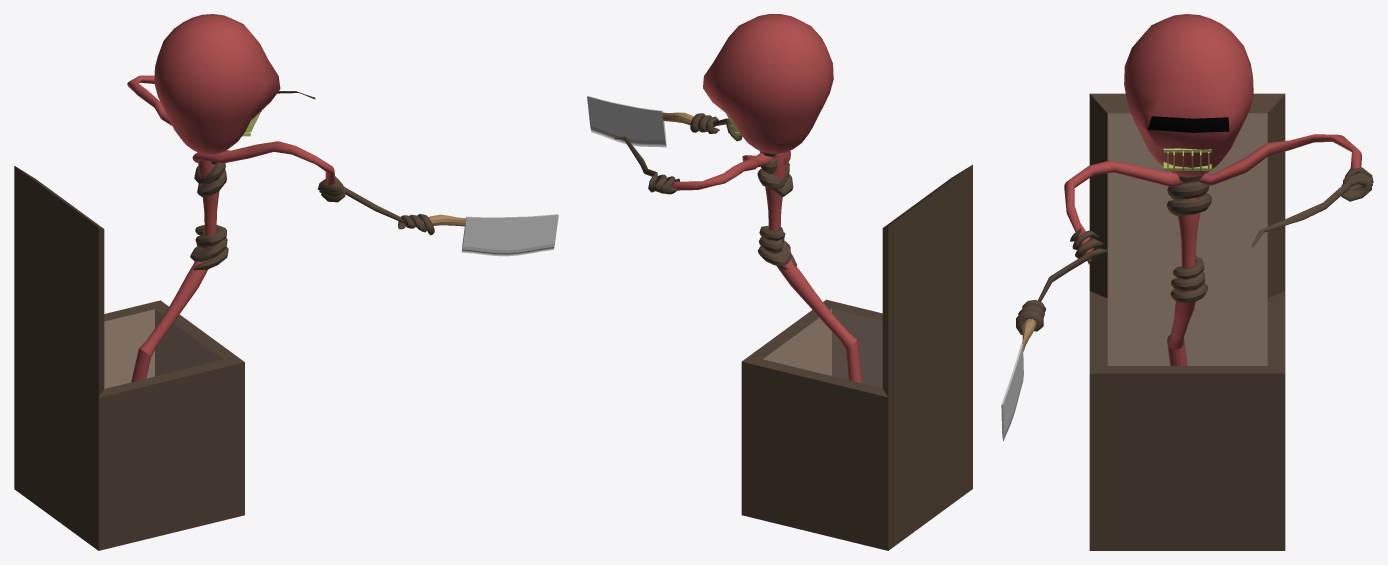
File: MonsterLow.fbx
3 renders of one model, left to right at view 1: azimuth 30°, elevation 25°; view 2: azimuth 150°, elevation 25°; view 3: azimuth 270°, elevation 25°, orthographic. The views are drawn at different scales.
Parts seen in each view (by area): view 1: Box, Head, Axe, pCylinder5, pCylinder2, pHelix4, pHelix1, pCylinder1, pHelix5, pCylinder3; view 2: Box, Head, Axe, pCylinder5, pHelix4, pCylinder3, pHelix5, pCylinder1, pHelix2, pHelix3; view 3: Box, Head, pCylinder2, pCylinder3, pHelix2, pHelix5, Axe, pHelix4, pHelix1, pCylinder5, pCylinder1, Mouth (+1 smaller).
Boxes of the visible parts, x1,y1,x2,y2 form: Box: [14, 166, 244, 550]; Head: [154, 14, 280, 154]; Axe: [422, 214, 558, 256]; pCylinder5: [131, 258, 211, 382]; pCylinder2: [192, 141, 335, 185]; pHelix4: [190, 225, 228, 270]; pHelix1: [317, 176, 414, 224]; pCylinder1: [198, 160, 219, 248]; pHelix5: [194, 161, 226, 197]; pCylinder3: [127, 75, 171, 125]; Box: [741, 164, 972, 550]; Head: [703, 14, 833, 154]; Axe: [587, 96, 693, 147]; pCylinder5: [776, 259, 862, 383]; pHelix4: [758, 225, 796, 269]; pCylinder3: [672, 152, 772, 190]; pHelix5: [757, 151, 793, 197]; pCylinder1: [765, 152, 786, 230]; pHelix2: [614, 136, 679, 194]; pHelix3: [690, 113, 719, 133]; Box: [1089, 93, 1285, 550]; Head: [1124, 14, 1253, 176]; pCylinder2: [1064, 160, 1186, 264]; pCylinder3: [1195, 134, 1361, 185]; pHelix2: [1251, 166, 1373, 246]; pHelix5: [1167, 174, 1211, 216]; Axe: [1001, 318, 1036, 441]; pHelix4: [1170, 256, 1207, 303]; pHelix1: [1038, 228, 1107, 301]; pCylinder5: [1167, 301, 1195, 365]; pCylinder1: [1177, 182, 1200, 292]; Mouth: [1163, 148, 1211, 172].
Bounding box in the file's own units: 30.62 × 31.92 × 20.19.
